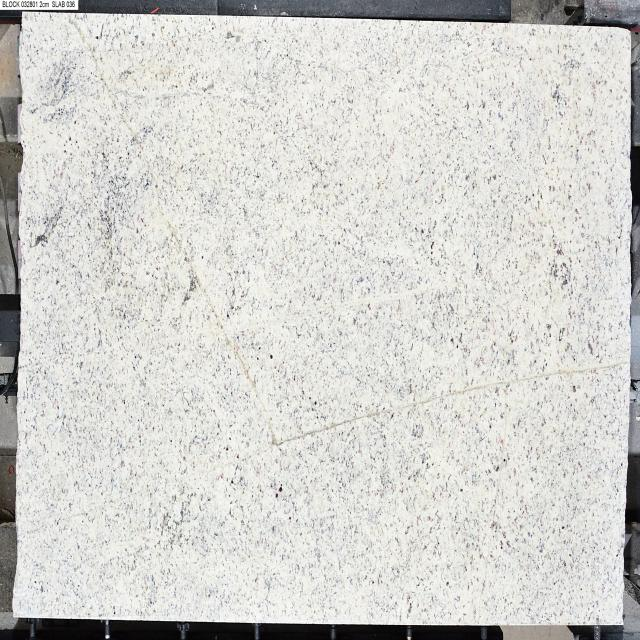chapa: (14, 13, 631, 624)
